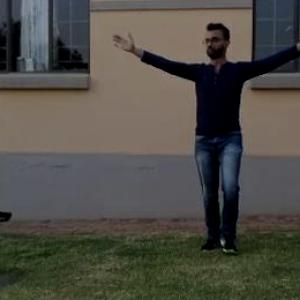takeoff: (105, 3, 299, 261)
